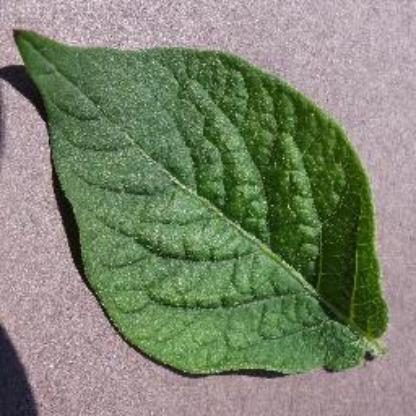Healthy-plant: (3, 19, 398, 379)
